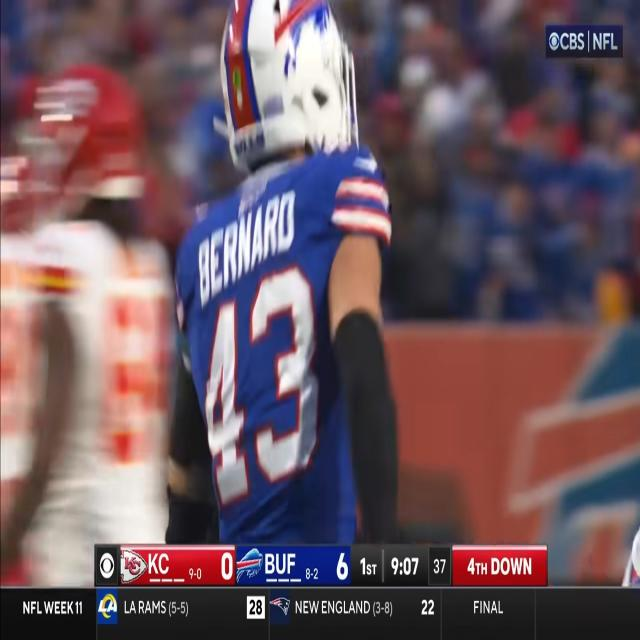Player: (176, 0, 407, 533), (38, 57, 154, 537)
